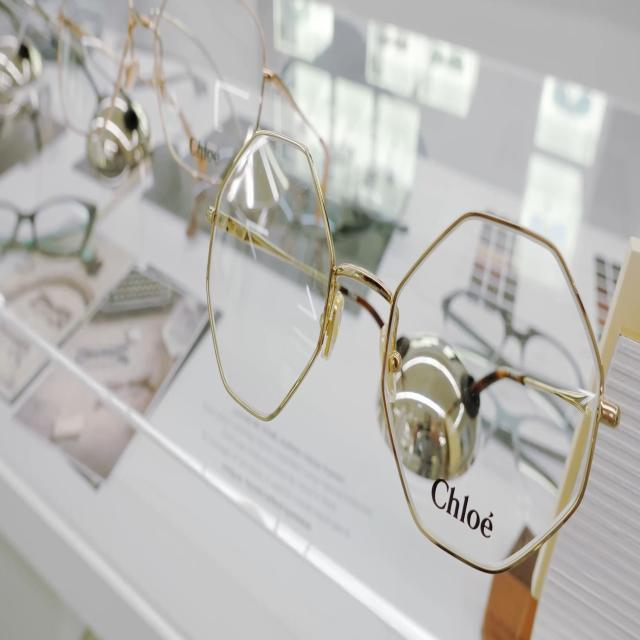glasses: (207, 129, 605, 578), (61, 2, 265, 186), (2, 200, 96, 258)
